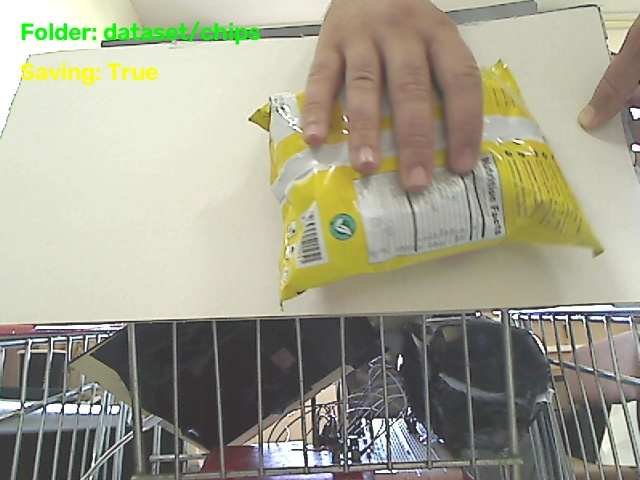chips: (251, 62, 602, 300)
